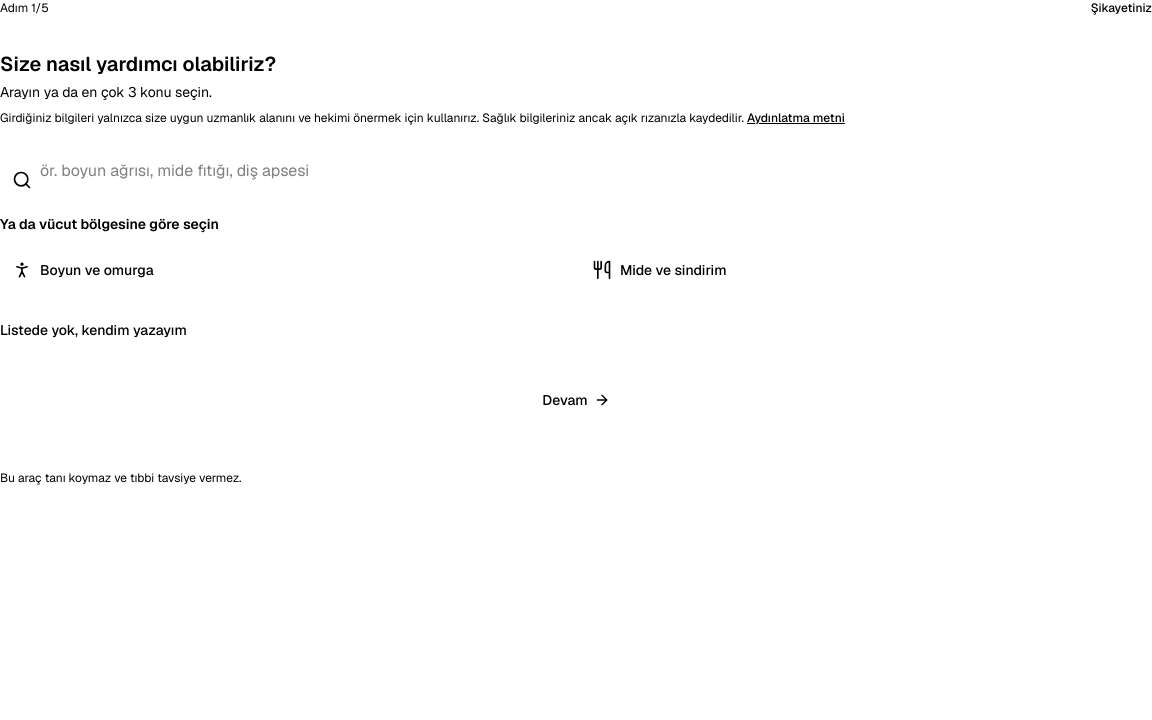
it: sihirbaz akışı › serbest metinde kırmızı bayrak: devam edince acil ekranı (TR → 112)
Click the button "Listede yok, kendim yazayım" at (93, 330), box [0,320,187,340]
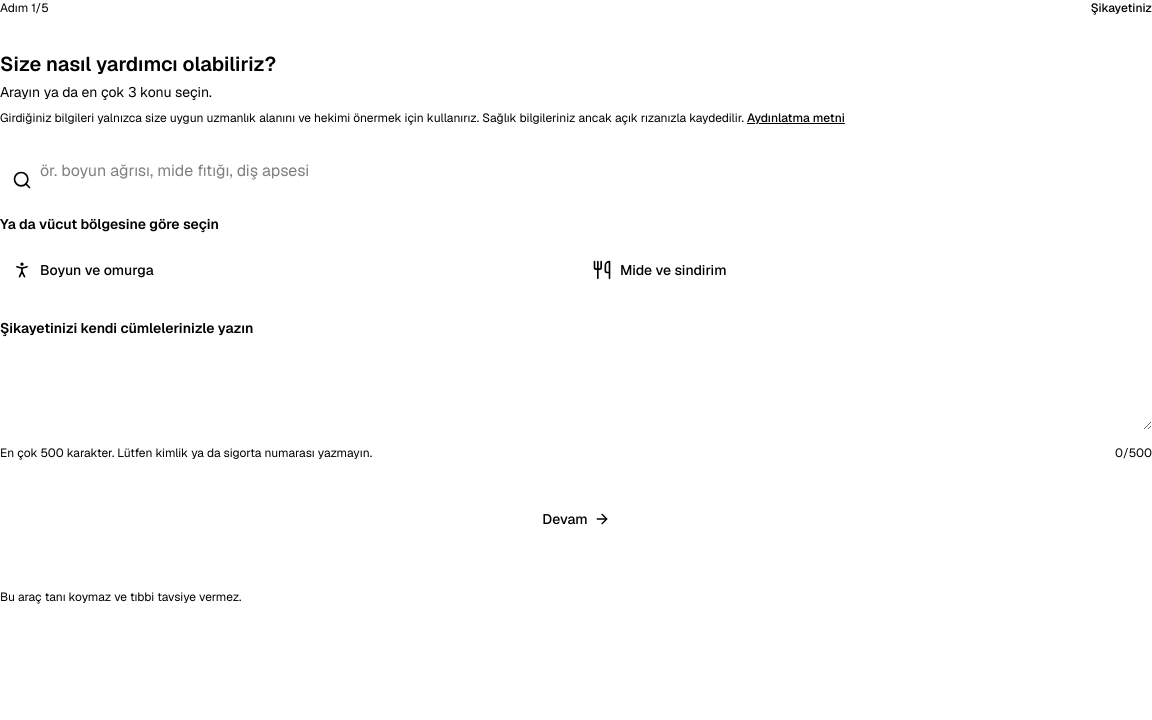
Type "babam nefes alamıyorum diyor" into the text box with test id "matcher-free-text" at (576, 388), box [0,346,1151,430]
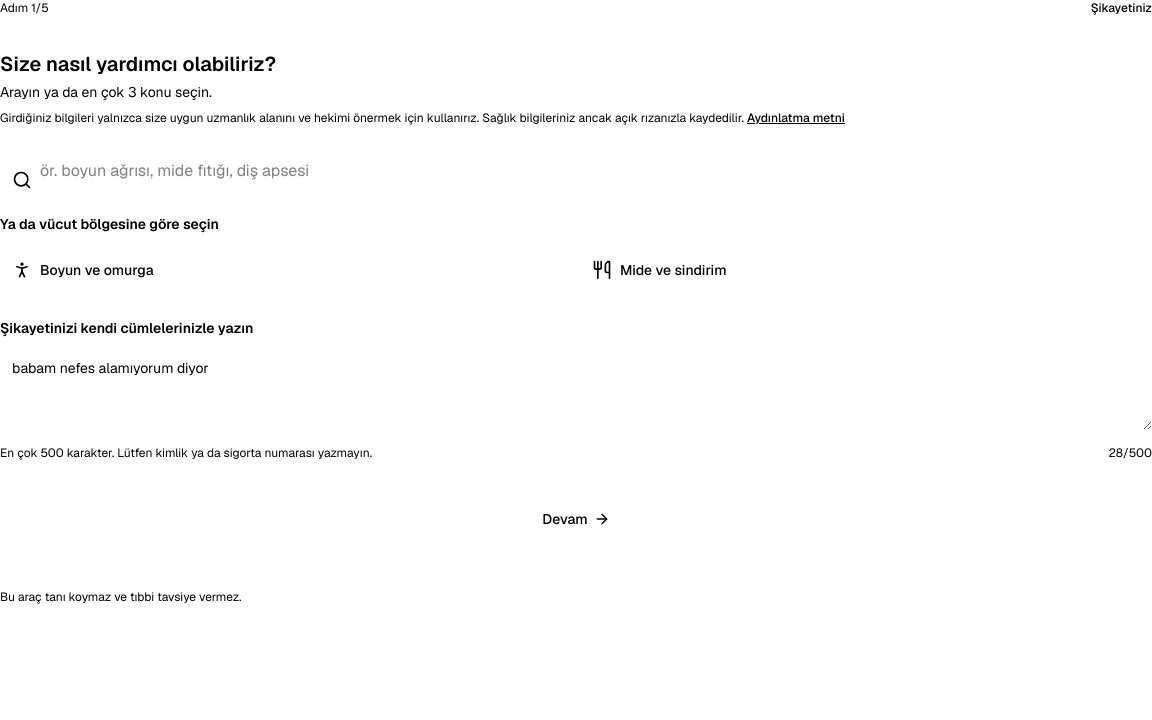
Click the button with test id "matcher-continue" at (576, 519), box [0,497,1151,541]
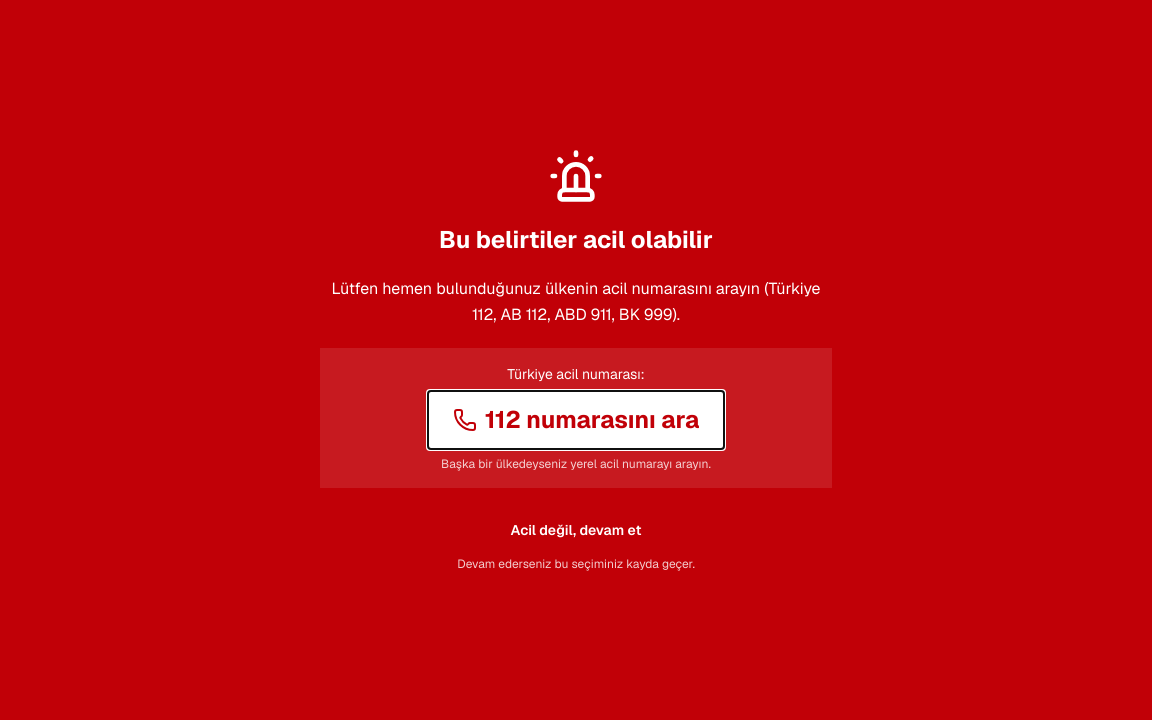
Expected: the dialog with test id "matcher-red-flag" is shown
